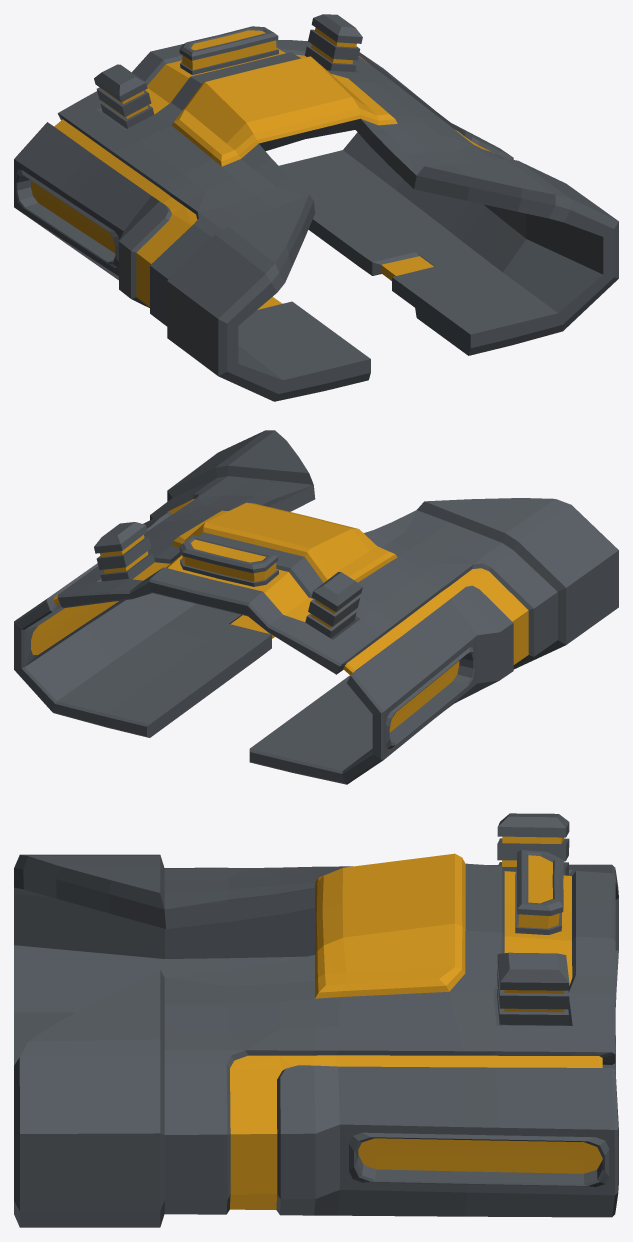
Rendered from Fighter_01_Rear_Outer_Frame_Yellow.fbx.
3 renders of one model, top to bottom at view 1: azimuth 30°, elevation 25°; view 2: azimuth 150°, elevation 25°; view 3: azimuth 270°, elevation 25°, orthographic. The views are drawn at different scales.
Visible parts, largest first — view 1: Fighter_01_Rear_Outer_Frame_Yellow; view 2: Fighter_01_Rear_Outer_Frame_Yellow; view 3: Fighter_01_Rear_Outer_Frame_Yellow.
Part boxes in pixels (x1,y1,x2,y2): Fighter_01_Rear_Outer_Frame_Yellow: (14, 14, 618, 401); Fighter_01_Rear_Outer_Frame_Yellow: (14, 430, 618, 784); Fighter_01_Rear_Outer_Frame_Yellow: (14, 813, 618, 1227).
Bounding box in the file's own units: 453 × 205 × 437.
1 material, 1 textured.
